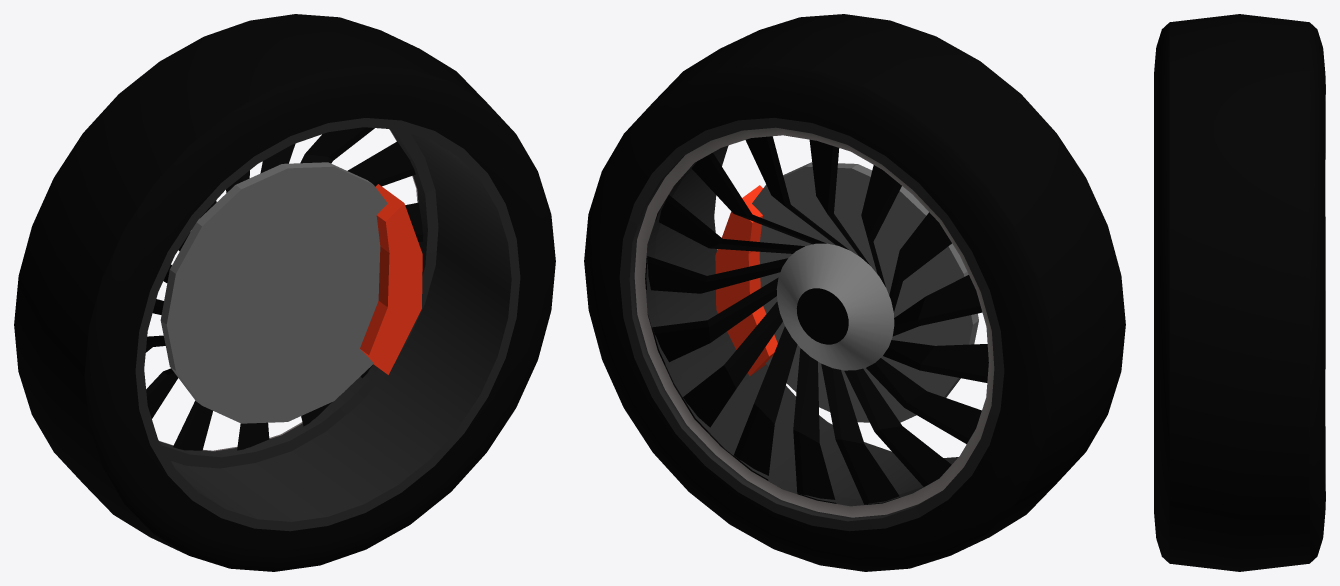
The model's file is tire_2.glb.
3 views of the same model, side by side, from view 1: azimuth 30°, elevation 25°; view 2: azimuth 150°, elevation 25°; view 3: azimuth 270°, elevation 25° (orthographic).
Visible parts, largest first — view 1: tire, rim_outer, barke_disc, rim, brake; view 2: tire, rim, rim_outer, barke_disc, rim_other, front2, brake, front; view 3: tire.
Boxes of the visible parts, x1,y1,x2,y2 form: tire: (14,14,555,571); rim_outer: (135,118,520,531); barke_disc: (160,162,387,423); rim: (145,127,423,450); brake: (360,184,422,374); tire: (584,14,1125,571); rim: (645,136,988,504); rim_outer: (619,118,1004,531); barke_disc: (752,162,978,422); rim_other: (634,127,994,517); front2: (776,243,894,370); brake: (715,185,777,376); front: (796,288,848,344); tire: (1154,14,1325,571).
Bounding box in the file's own units: 0.631 × 0.631 × 0.194.
